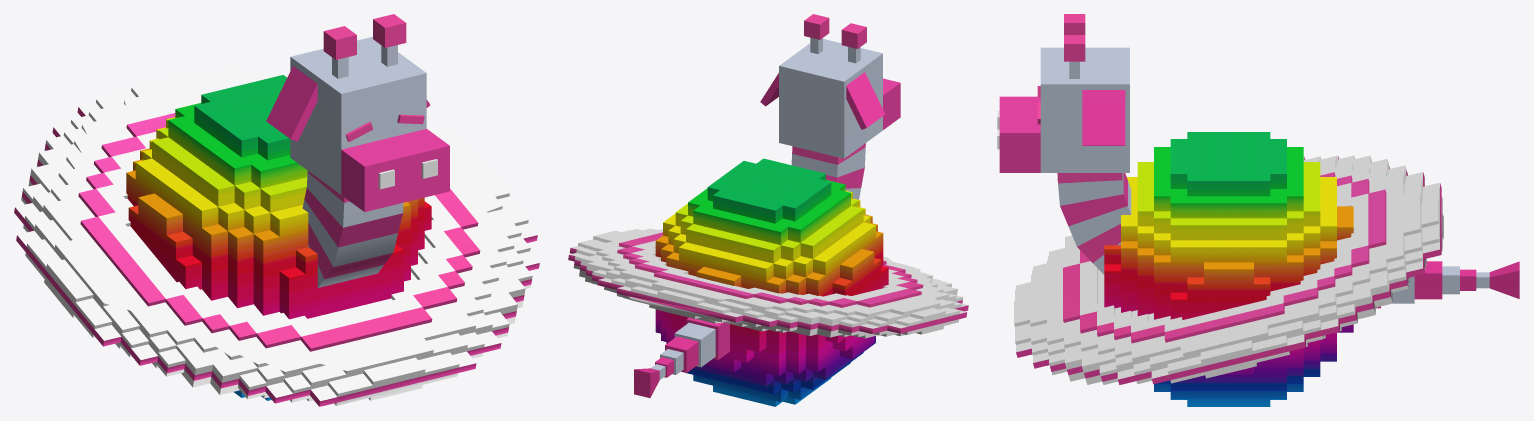
The model's file is La_Vaca_Saturno_Saturno.fbx.
The picture shows the model from 3 angles, left to right: view 1: azimuth 30°, elevation 25°; view 2: azimuth 150°, elevation 25°; view 3: azimuth 270°, elevation 25°; orthographic projection. The views are drawn at different scales.
Parts seen in each view (by area): view 1: La_Vaca_Saturno_Saturno.001; view 2: La_Vaca_Saturno_Saturno.001; view 3: La_Vaca_Saturno_Saturno.001.
Boxes of the visible parts, left/top/right/bottom form: La_Vaca_Saturno_Saturno.001: left=14, top=14, right=539, bottom=406; La_Vaca_Saturno_Saturno.001: left=568, top=14, right=968, bottom=406; La_Vaca_Saturno_Saturno.001: left=997, top=14, right=1519, bottom=406.
Size of the model in its own units: 2.19 by 1.94 by 2.6.
